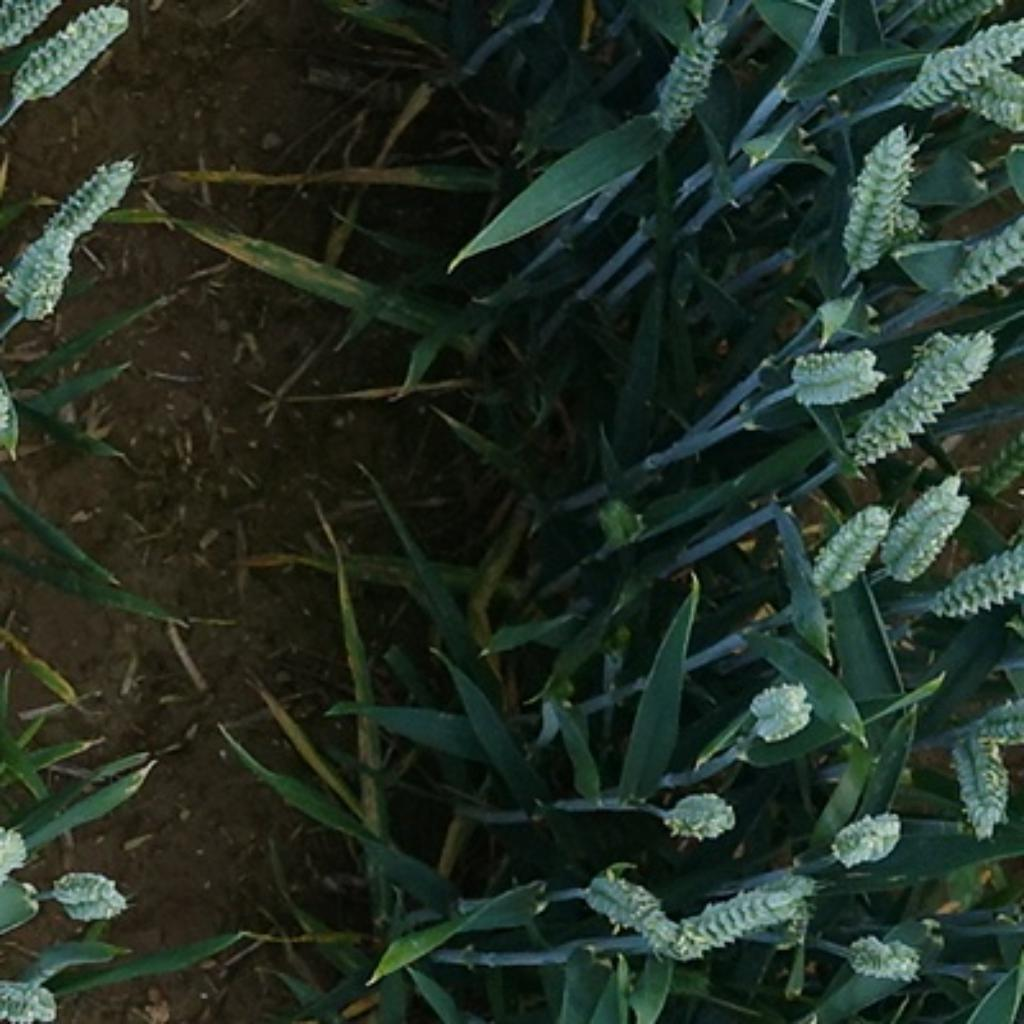0-0: (850, 325, 998, 466), (824, 117, 926, 273), (10, 1, 133, 103), (907, 19, 1023, 119), (33, 153, 143, 258), (670, 872, 808, 952), (640, 10, 727, 135), (878, 476, 970, 576), (916, 535, 1024, 619), (806, 491, 890, 593), (576, 862, 680, 944), (944, 727, 1017, 842), (0, 222, 79, 317), (936, 425, 1024, 501), (924, 67, 1024, 133), (780, 337, 878, 404), (953, 212, 1024, 292), (742, 679, 821, 748), (824, 803, 908, 867), (837, 926, 926, 983), (50, 867, 134, 926), (660, 787, 744, 846), (0, 970, 64, 1024)
